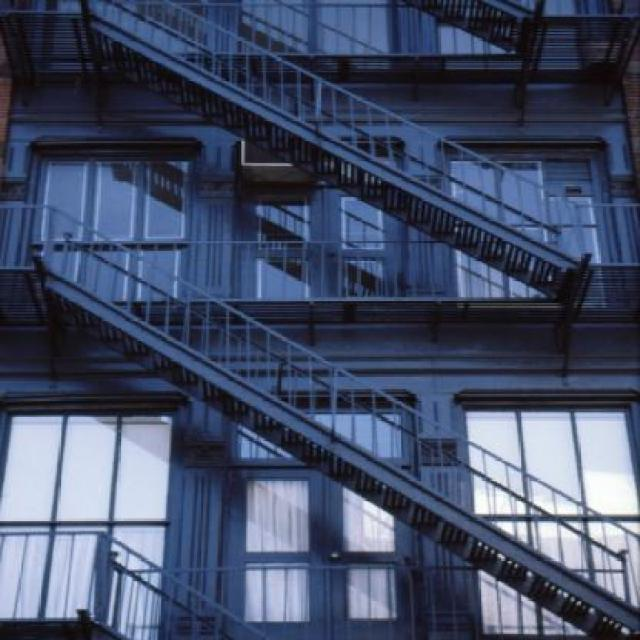stair: (37, 261, 640, 640), (86, 0, 594, 305), (395, 0, 638, 72)
